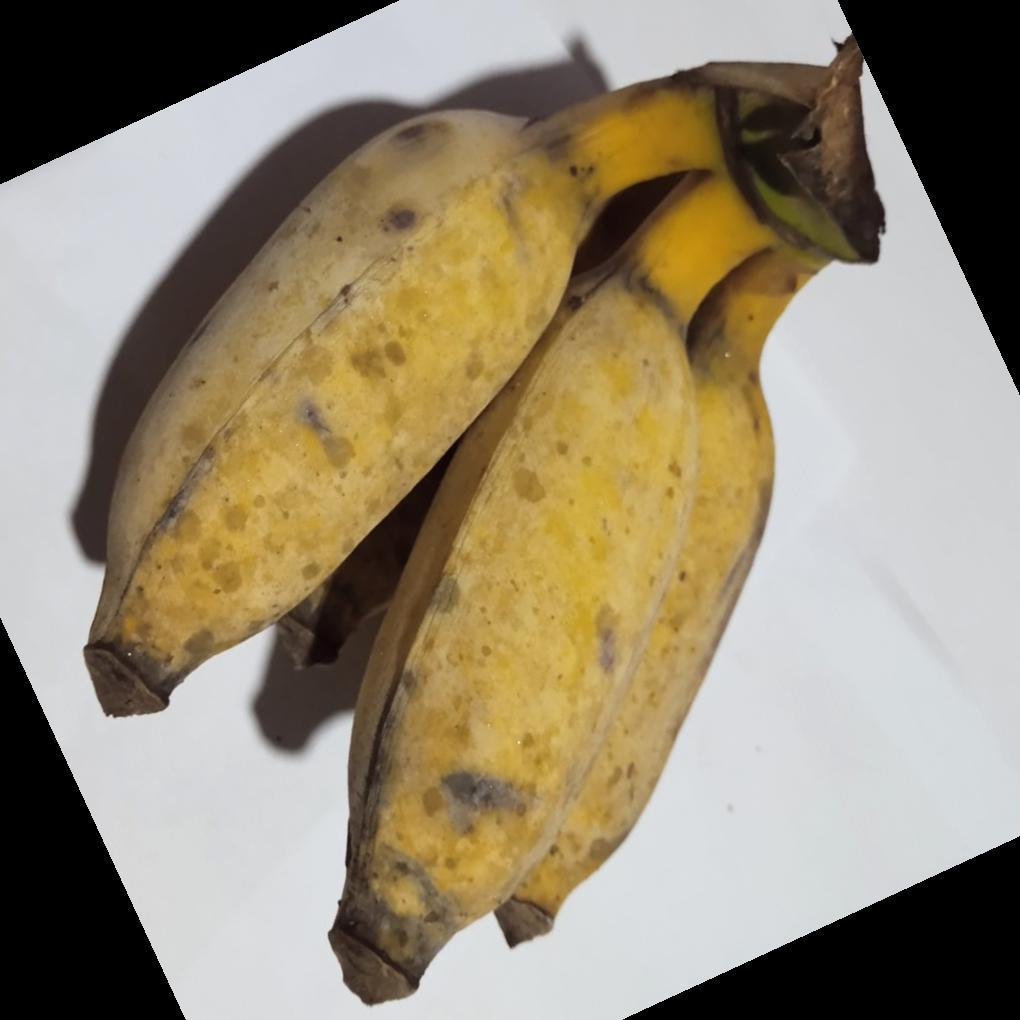Banana Ripe: (82, 21, 899, 1020), (312, 13, 934, 1020)
